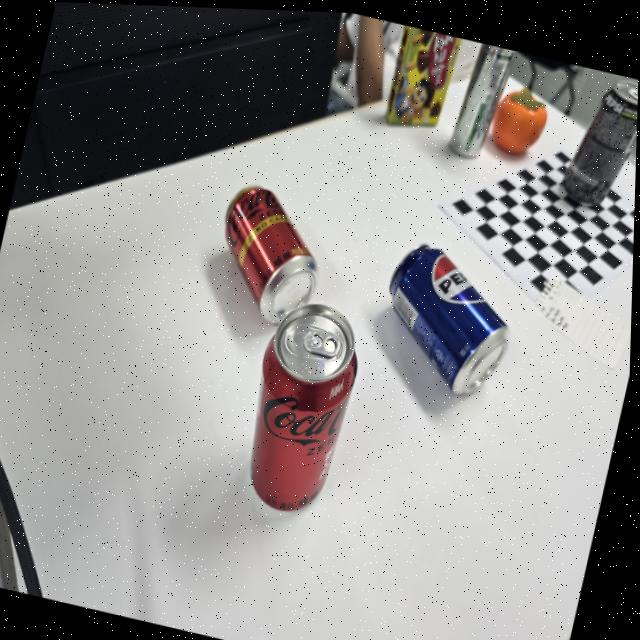can_coke_decaf: (224, 183, 320, 325)
can_coke_zero: (249, 302, 359, 514)
can_pepsi: (388, 241, 510, 395)
